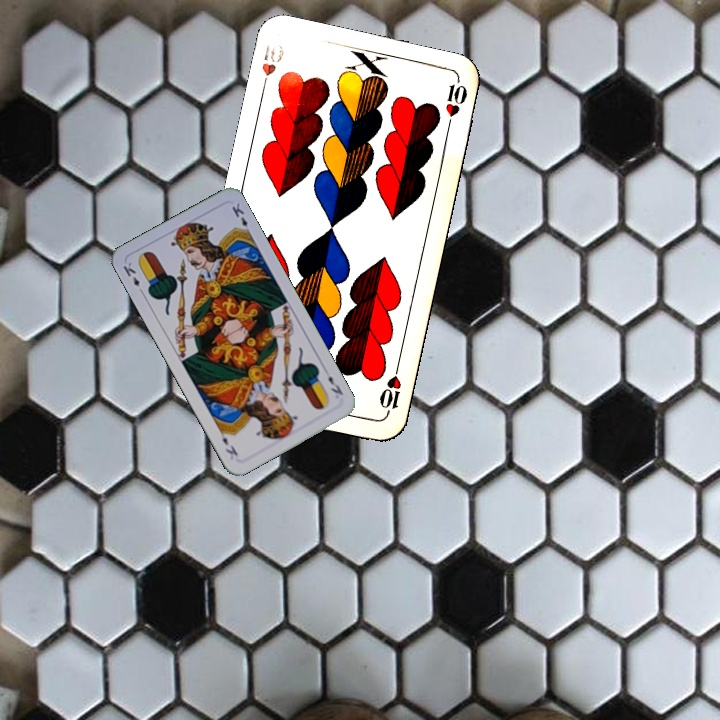EK: (119, 258, 147, 297), (324, 372, 346, 398)
H10: (375, 361, 404, 420), (257, 39, 287, 96)
